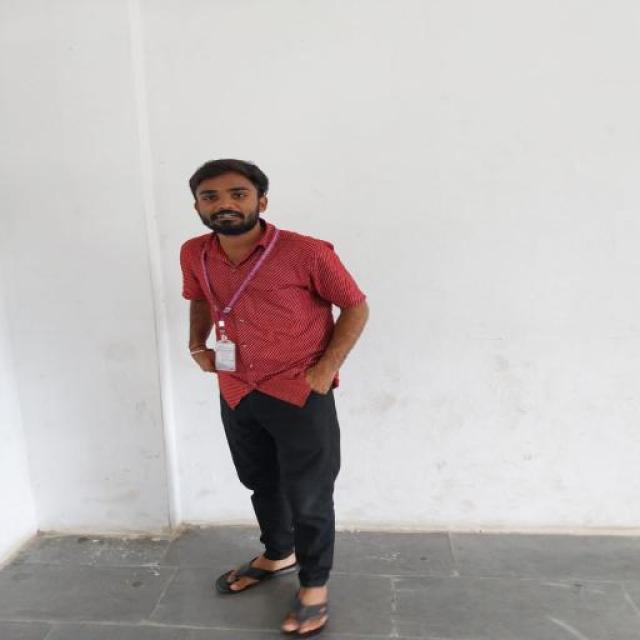id_card: (196, 222, 273, 376)
